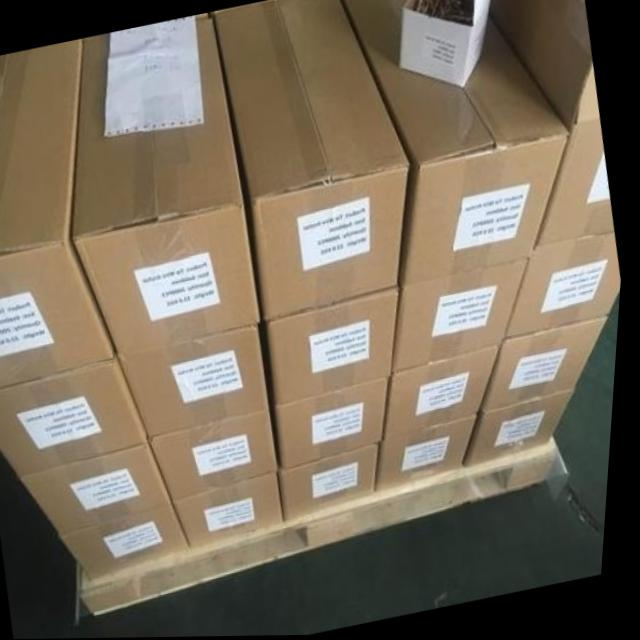box: (339, 0, 573, 284), (76, 13, 267, 356), (211, 0, 412, 321), (0, 39, 122, 389), (489, 0, 617, 249), (0, 357, 152, 477), (267, 282, 401, 412), (122, 325, 276, 437), (397, 259, 535, 377), (25, 439, 180, 535), (485, 318, 612, 416), (509, 239, 625, 341), (153, 415, 285, 504), (276, 377, 397, 471), (389, 344, 508, 439), (67, 506, 200, 582), (180, 469, 293, 553), (283, 440, 390, 527), (470, 389, 581, 467), (384, 414, 484, 498), (400, 0, 491, 86)
